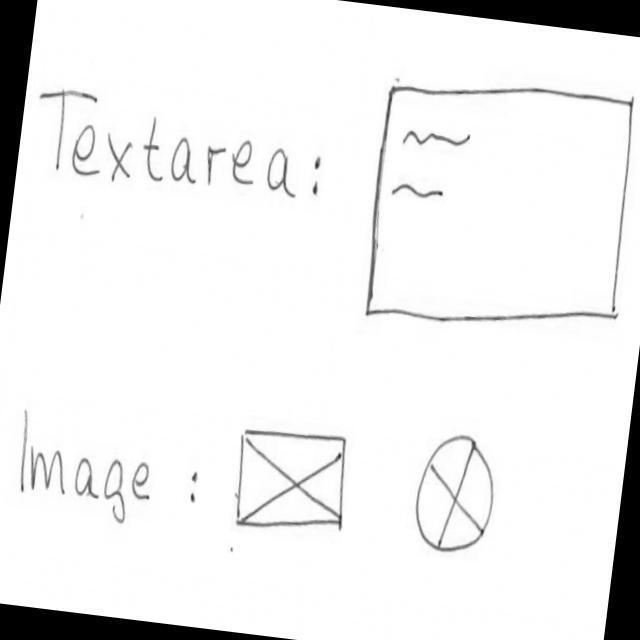image: (228, 418, 357, 543), (410, 427, 503, 562)
textarea: (356, 61, 640, 350)
